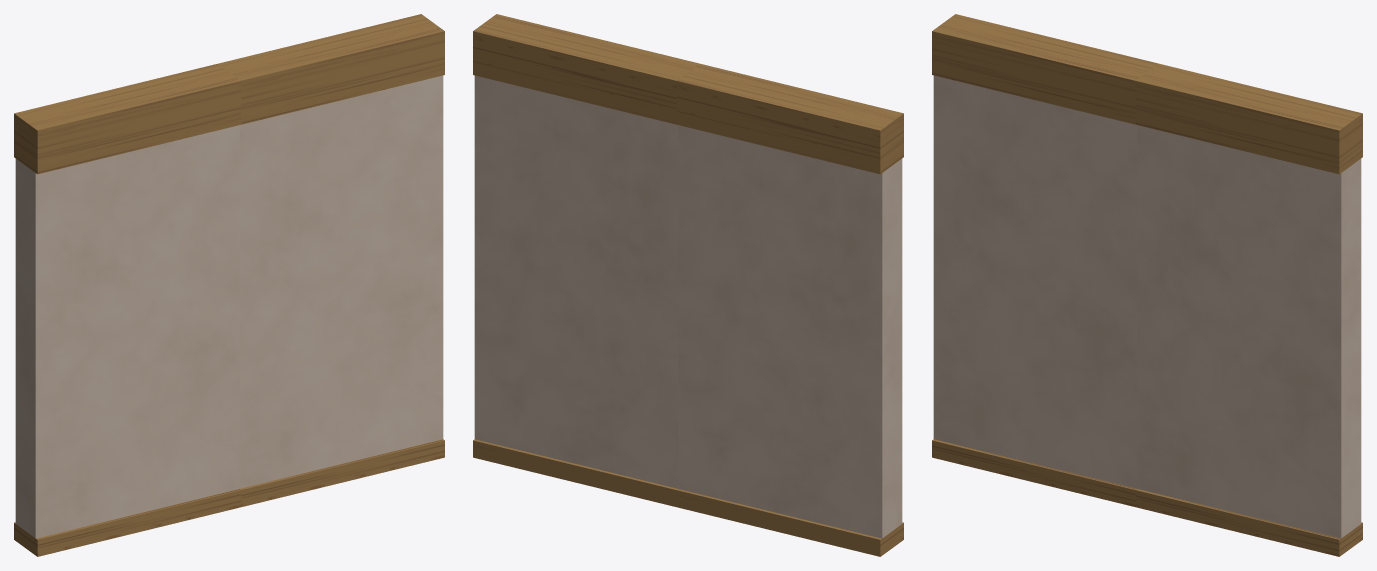
File: wall_2.fbx
The picture shows the model from 3 angles, left to right: view 1: azimuth 30°, elevation 25°; view 2: azimuth 150°, elevation 25°; view 3: azimuth 330°, elevation 25°; orthographic projection.
Visible parts, largest first — view 1: Cube.240; view 2: Cube.240; view 3: Cube.240.
Part boxes in pixels (left/top/right/bottom): Cube.240: left=14, top=14, right=444, bottom=556; Cube.240: left=473, top=14, right=903, bottom=556; Cube.240: left=932, top=14, right=1362, bottom=556.
Size of the model in its own units: 200 by 200 by 20.
